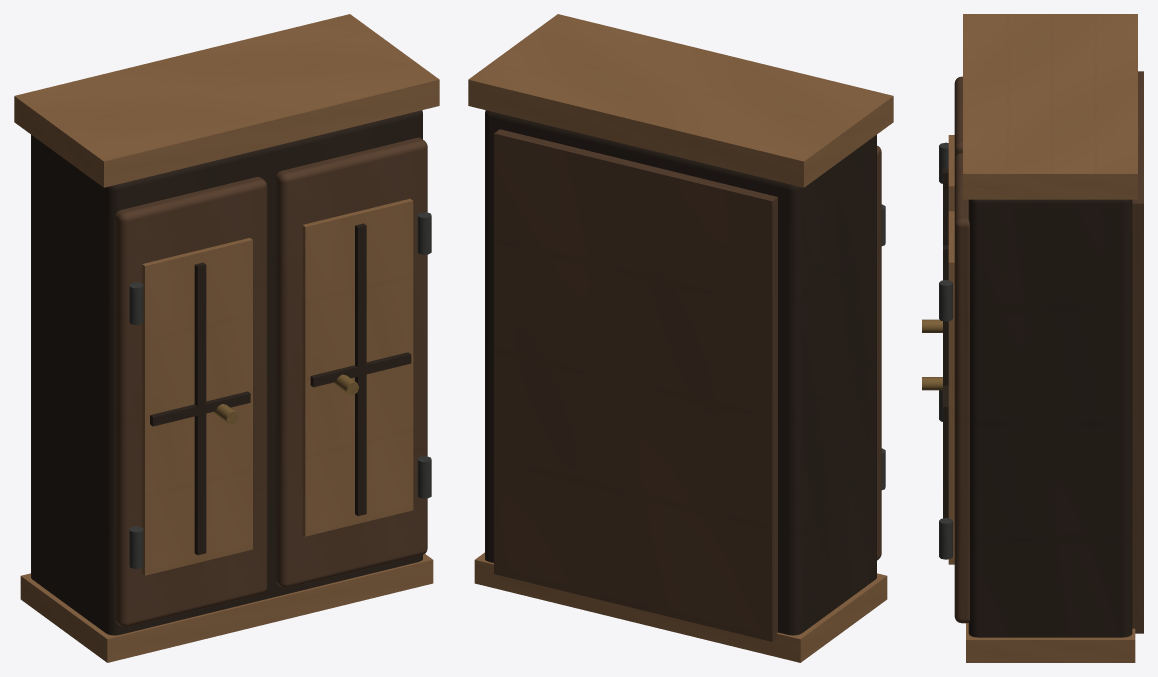
The model's file is sk-household-wardrobe.glb.
3 views of the same model, side by side, from view 1: azimuth 30°, elevation 25°; view 2: azimuth 150°, elevation 25°; view 3: azimuth 270°, elevation 25° (orthographic). The views are drawn at different scales.
Visible parts, largest first — view 1: wardrobe-door-inset (×2), wardrobe-door-panel (×2), household:wardrobe-static-wood, wardrobe-case, wardrobe-door-divider (×4), wardrobe-hinge (×4); view 2: wardrobe-backboard, wardrobe-case, household:wardrobe-static-wood, wardrobe-door-panel; view 3: wardrobe-case, household:wardrobe-static-wood, wardrobe-door-panel (×2), wardrobe-backboard, wardrobe-door-inset (×2), wardrobe-door-divider (×2), wardrobe-hinge (×2).
Boxes of the visible parts, x1,y1,x2,y2 form: wardrobe-door-inset (×2): (142, 198, 413, 575); wardrobe-door-panel (×2): (114, 137, 427, 627); household:wardrobe-static-wood: (14, 14, 439, 662); wardrobe-case: (31, 110, 422, 635); wardrobe-door-divider (×4): (150, 223, 411, 555); wardrobe-hinge (×4): (129, 212, 431, 568); wardrobe-backboard: (494, 129, 777, 641); wardrobe-case: (485, 110, 876, 635); household:wardrobe-static-wood: (468, 14, 893, 662); wardrobe-door-panel: (877, 145, 881, 560); wardrobe-case: (968, 199, 1132, 637); household:wardrobe-static-wood: (963, 14, 1137, 662); wardrobe-door-panel (×2): (954, 76, 969, 623); wardrobe-backboard: (1132, 71, 1143, 633); wardrobe-door-inset (×2): (948, 135, 954, 564); wardrobe-door-divider (×2): (943, 169, 948, 518); wardrobe-hinge (×2): (939, 280, 952, 559).
Bounding box in the file's own units: 1.34 × 1.92 × 0.7855.
5 materials, 5 textured.
